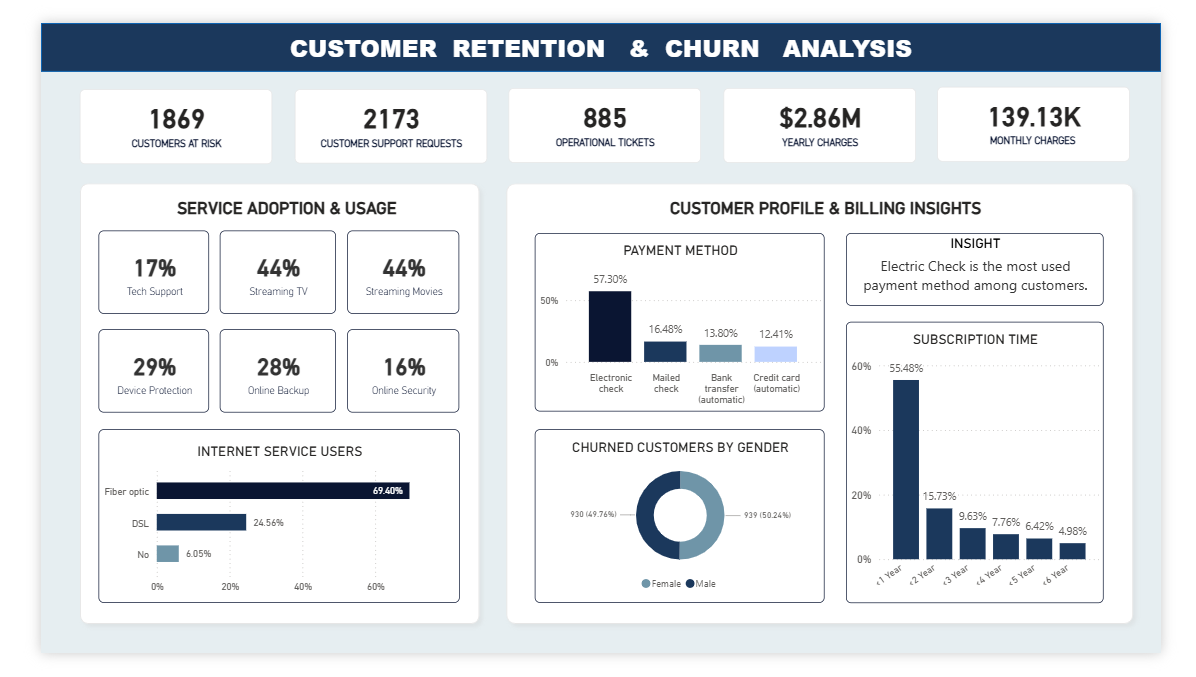

The page's visual inventory and layout, read from the dashboard file:
{"tool":"powerbi","page":{"name":"Customer Retention Overview","canvas":[1280,720],"ordinal":0},"visuals":[{"type":"shape","box":[522.9,174.3,734.3,521.4],"z":0},{"type":"card","fields":{"Values":["Churn.% Tech Support"]},"box":[65.7,237.1,126.6,95.4],"z":0,"group":"g2"},{"type":"shape","box":[0,0,1280,55.7],"z":1000},{"type":"card","fields":{"Values":["Churn.% Streaming TV"]},"box":[204.7,237.1,132.5,95.4],"z":1000,"group":"g2"},{"type":"shape","box":[35.7,174.3,474.3,521.4],"z":2000},{"type":"textbox","box":[47.1,185.7,452.9,45.7],"z":2000,"group":"g1"},{"type":"textbox","box":[534.3,185.7,710,45.7],"z":2000,"group":"g3"},{"type":"card","fields":{"Values":["Churn.% Streaming Movies"]},"box":[350.4,237.1,128.1,95.4],"z":2000,"group":"g2"},{"type":"textbox","box":[0,4.3,1280,55.7],"z":3000},{"type":"card","fields":{"Values":["Churn.% Device Protection"]},"box":[65.7,349.8,126.6,95.4],"z":3000,"group":"g2"},{"type":"card","fields":{"Values":["CountNonNull(01 Churn-Dataset.customerID)"]},"box":[44.3,75.7,220,85.7],"z":4000},{"type":"card","fields":{"Values":["Churn.% Online Backup"]},"box":[204.7,349.8,132.5,95.4],"z":4000,"group":"g2"},{"type":"card","fields":{"Values":["Sum(01 Churn-Dataset.numTechTickets)"]},"box":[289.3,75.5,220,85],"z":5000},{"type":"card","fields":{"Values":["Churn.% Online Sec"]},"box":[350.4,349.8,128.1,95.4],"z":5000,"group":"g2"},{"type":"card","fields":{"Values":["Sum(01 Churn-Dataset.TotalCharges)"]},"box":[779.3,73.8,220,85.7],"z":6000},{"type":"card","fields":{"Values":["Sum(01 Churn-Dataset.numAdminTickets)"]},"box":[534.3,74.6,220,85.7],"z":7000},{"type":"columnChart","title":"SUBSCRIPTION TIME","fields":{"Category":["Churn.Tenure(in years)"],"Y":["Divide(CountNonNull(Churn.Churn), ScopedEval(CountNonNull(Churn.Churn), []))"]},"box":[920,341.4,294.3,321.4],"z":8000},{"type":"card","fields":{"Values":["Sum(01 Churn-Dataset.MonthlyCharges)"]},"box":[1024.3,72.9,220,85.7],"z":9000},{"type":"group","id":"g1","title":"Group 2","box":[47.1,185.7,452.9,45.7],"z":10000},{"type":"group","id":"g2","title":"Group 3","box":[65.7,237.1,412.9,208.6],"z":11000},{"type":"barChart","title":"INTERNET SERVICE USERS","fields":{"Y":["CountNonNull(Churn.InternetService)"],"Category":["Churn.InternetService"]},"box":[65.7,464.3,412.9,198.6],"z":12000},{"type":"columnChart","title":"PAYMENT METHOD","fields":{"Category":["Churn.PaymentMethod"],"Y":["Divide(CountNonNull(Churn.PaymentMethod), ScopedEval(CountNonNull(Churn.PaymentMethod), []))"]},"box":[564.3,240,331.4,204.3],"z":13000},{"type":"group","id":"g3","title":"Group 2","box":[534.3,185.7,710,45.7],"z":14000},{"type":"donutChart","title":"CHURNED CUSTOMERS BY GENDER","fields":{"Category":["01 Churn-Dataset.gender"],"Y":["CountNonNull(Churn.gender)"]},"box":[564.3,464.3,331.4,198.6],"z":15000},{"type":"textbox","title":"INSIGHT","box":[920,240,294.3,82.9],"z":16000}]}

Visuals, with their boxes in screenshot pixels (x1, y1, x2, y2), scaled from the page's 1280x720 canvas onto the 1196x677 screenshot:
shape: box(489, 164, 1175, 654)
card - Churn.% Tech Support: box(61, 223, 180, 313)
shape: box(0, 0, 1195, 52)
card - Churn.% Streaming TV: box(191, 223, 315, 313)
shape: box(33, 164, 477, 654)
textbox: box(44, 175, 467, 218)
textbox: box(499, 175, 1163, 218)
card - Churn.% Streaming Movies: box(327, 223, 447, 313)
textbox: box(0, 4, 1195, 56)
card - Churn.% Device Protection: box(61, 329, 180, 419)
card - CountNonNull(01 Churn-Dataset.customerID): box(41, 71, 247, 152)
card - Churn.% Online Backup: box(191, 329, 315, 419)
card - Sum(01 Churn-Dataset.numTechTickets): box(270, 71, 476, 151)
card - Churn.% Online Sec: box(327, 329, 447, 419)
card - Sum(01 Churn-Dataset.TotalCharges): box(728, 69, 934, 150)
card - Sum(01 Churn-Dataset.numAdminTickets): box(499, 70, 705, 151)
"SUBSCRIPTION TIME" columnChart: box(860, 321, 1135, 623)
card - Sum(01 Churn-Dataset.MonthlyCharges): box(957, 69, 1163, 149)
"Group 2" group: box(44, 175, 467, 218)
"Group 3" group: box(61, 223, 447, 419)
"INTERNET SERVICE USERS" barChart: box(61, 437, 447, 623)
"PAYMENT METHOD" columnChart: box(527, 226, 837, 418)
"Group 2" group: box(499, 175, 1163, 218)
"CHURNED CUSTOMERS BY GENDER" donutChart: box(527, 437, 837, 623)
"INSIGHT" textbox: box(860, 226, 1135, 304)
